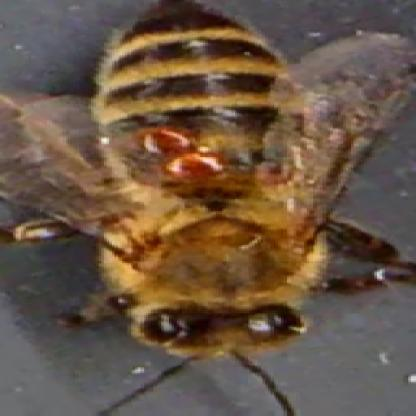bee: (88, 4, 326, 350)
vaoora: (142, 127, 194, 154), (176, 154, 215, 176)
